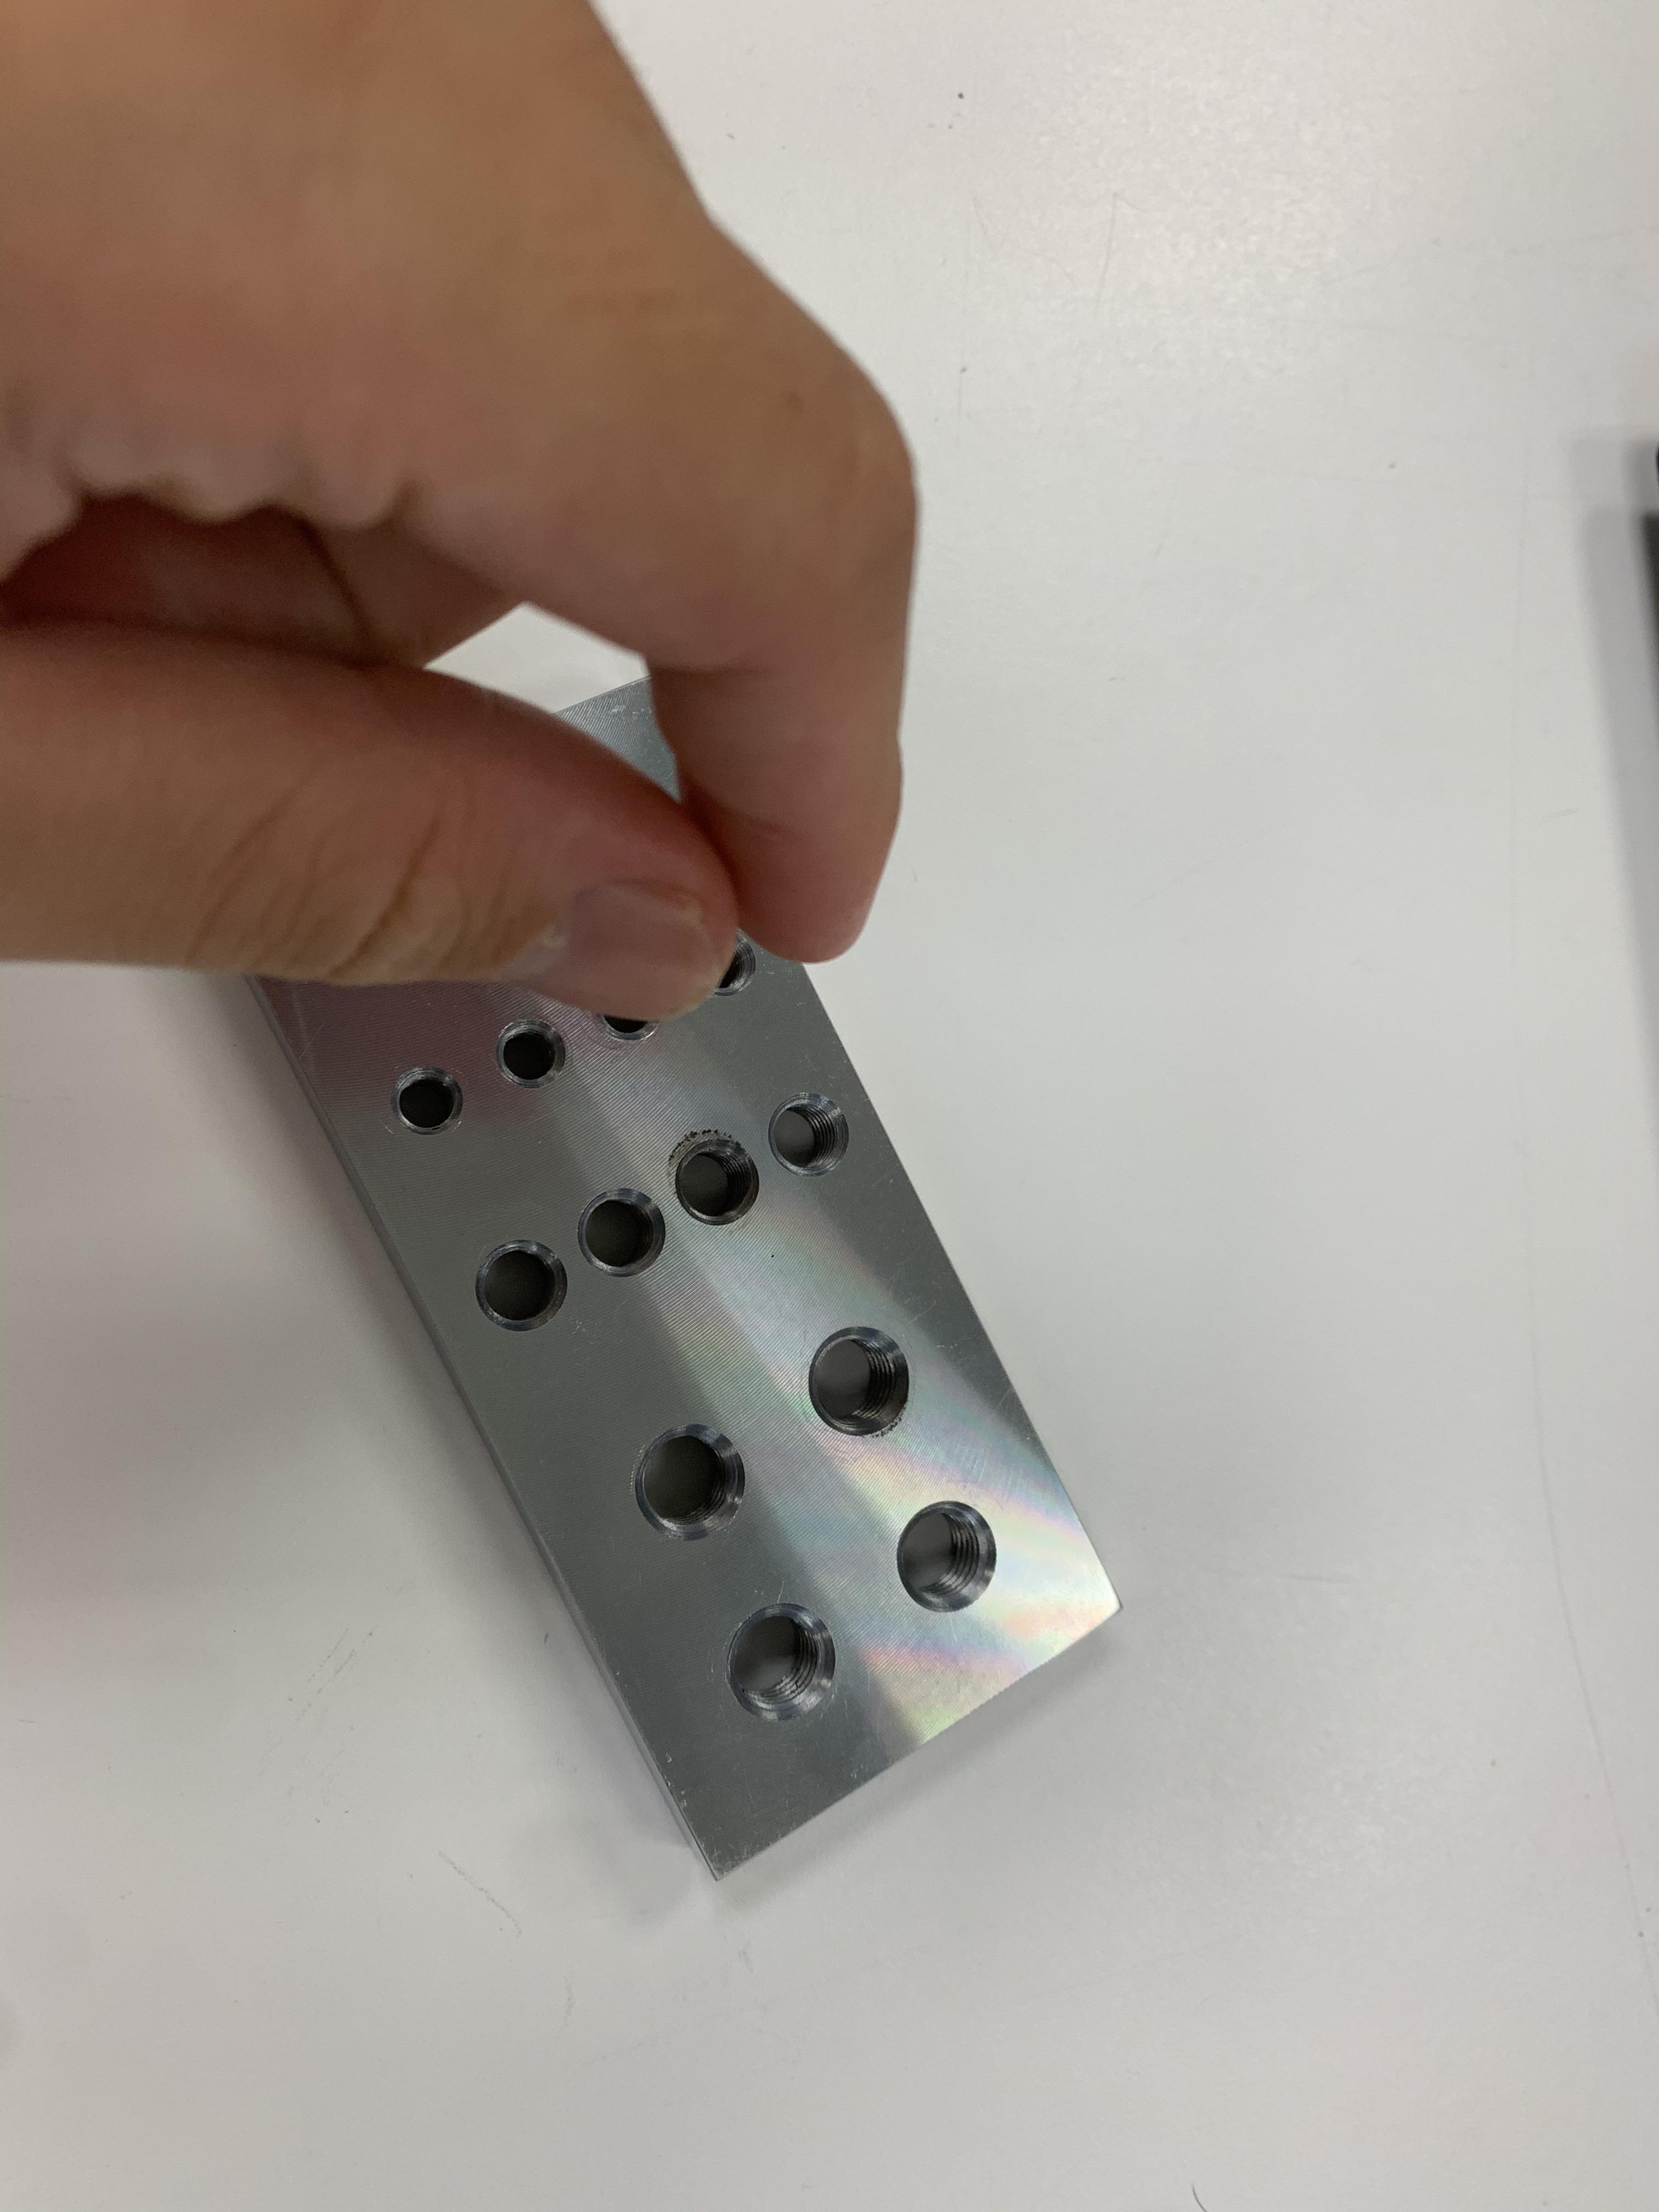hole: (863, 1493, 1035, 1637), (622, 1402, 770, 1566), (706, 1587, 854, 1738), (796, 1303, 934, 1458), (450, 1216, 584, 1359), (565, 1165, 678, 1312), (662, 1115, 777, 1240), (375, 1033, 479, 1167), (763, 1078, 866, 1198), (484, 1000, 584, 1104)
